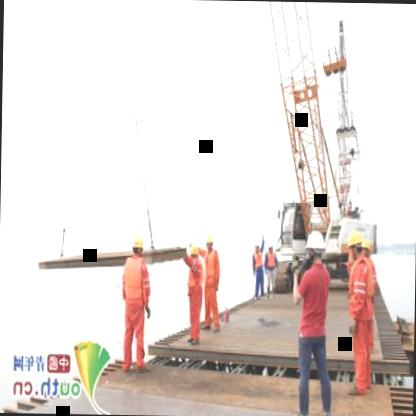helmet: (300, 225, 326, 266), (346, 228, 366, 260), (130, 235, 146, 260), (186, 242, 202, 266), (204, 230, 218, 254)
